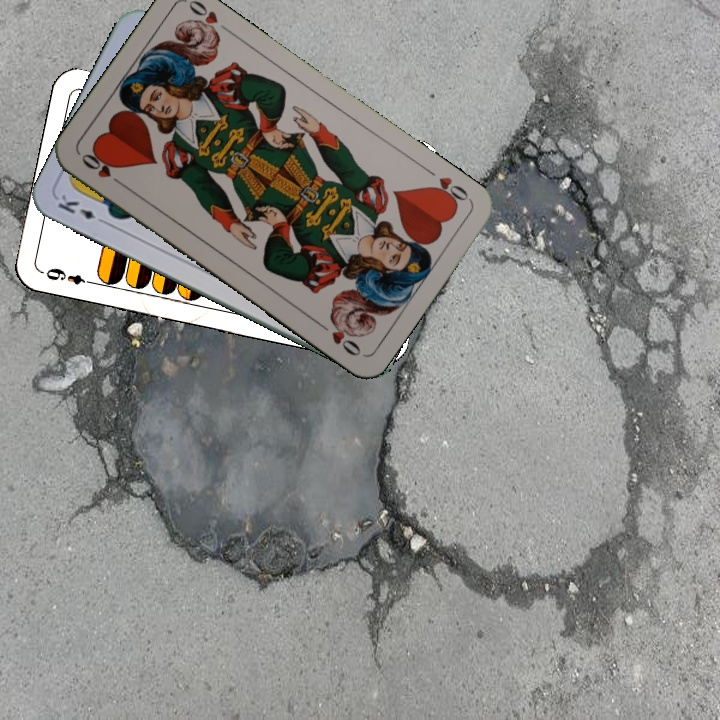E9: (42, 264, 98, 288)
EK: (53, 190, 110, 227)
HO: (421, 164, 473, 209), (77, 148, 128, 189)
